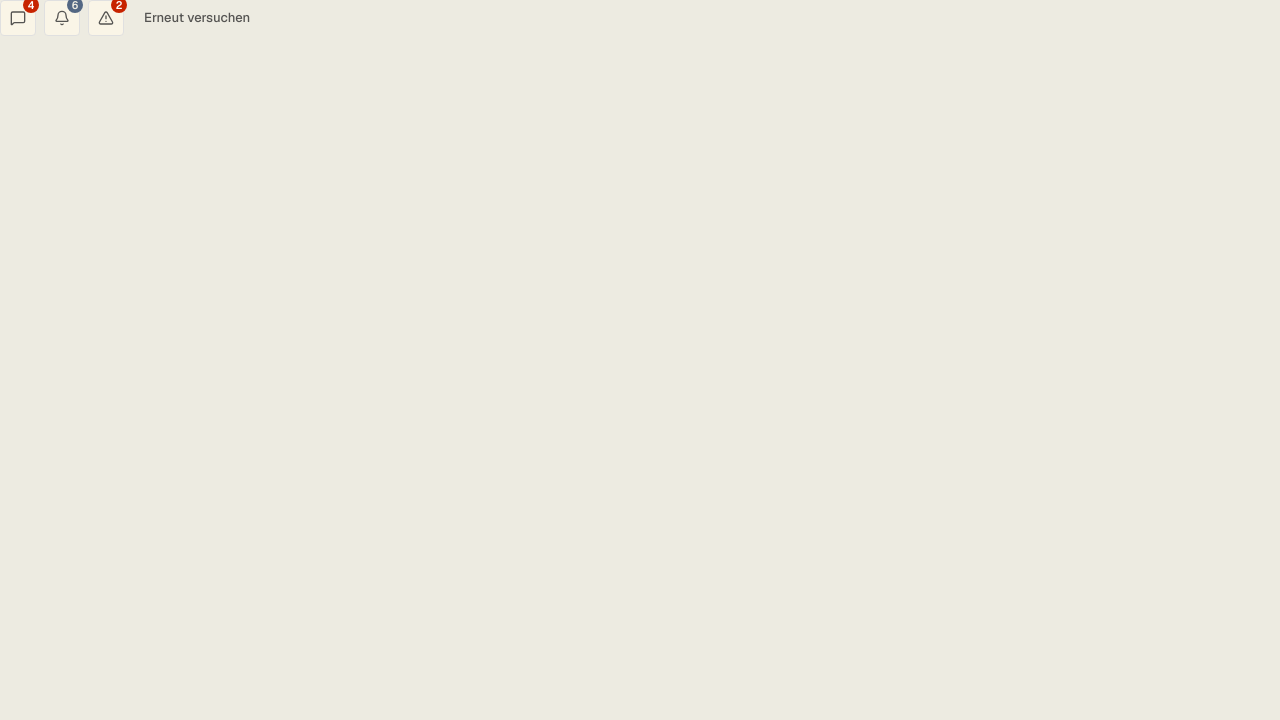
TopbarAccountSection › separates message, notification, and attention controls
Click the button "2".
click(106, 18)  # box [88,0,124,36]
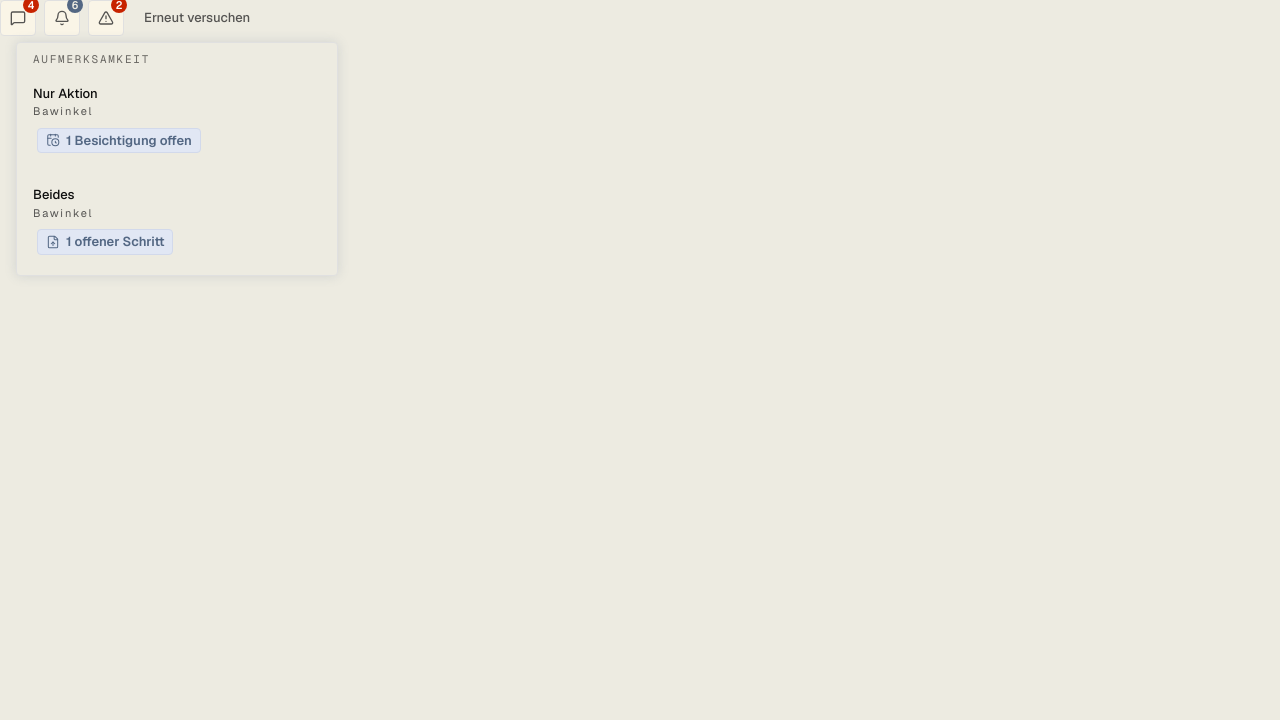
Check: the dialog "Aufmerksamkeit" shows "Nur Aktion", box [33,84,98,102]
Check: the dialog "Aufmerksamkeit" shows "Beides", box [33,186,75,203]
Check: the dialog "Aufmerksamkeit" shows "1 Besichtigung offen", box [33,124,321,157]
Click the button "4".
click(18, 18)  # box [0,0,36,36]
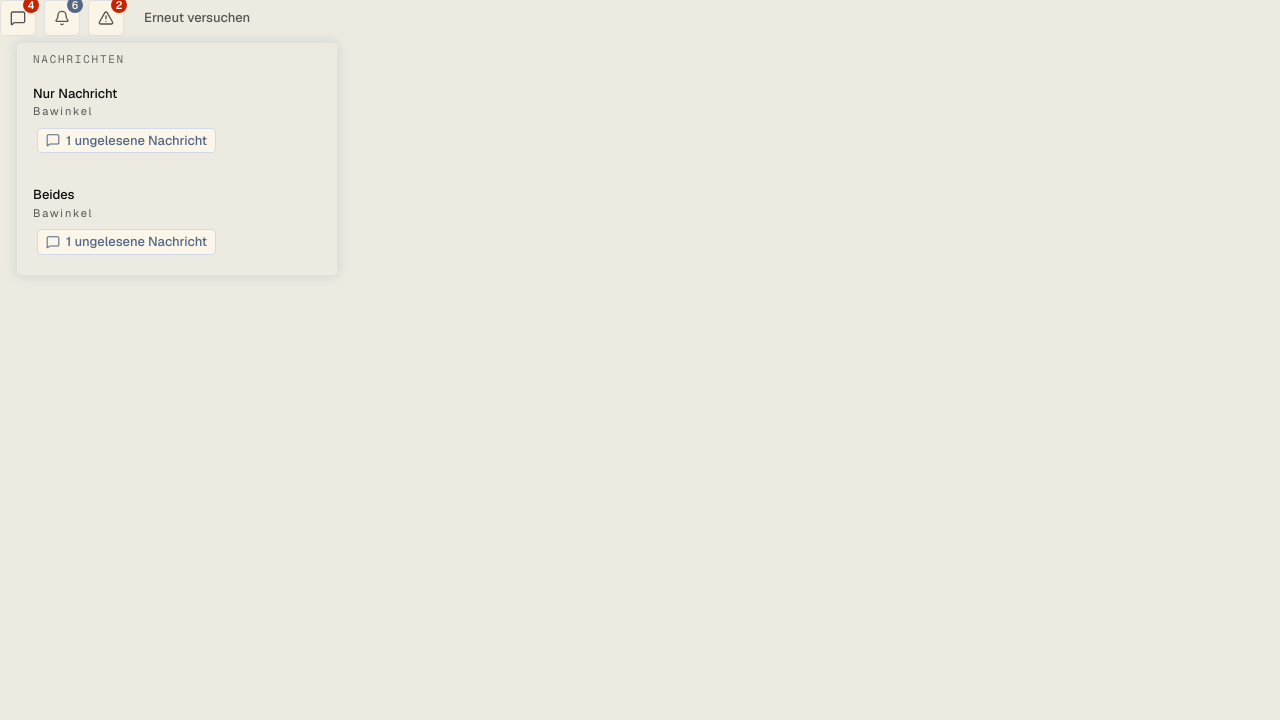
Check: the dialog "Nachrichten" shows "Beides", box [33,186,75,203]
Check: the dialog "Nachrichten" shows "Nur Nachricht", box [33,84,118,102]
Check: the text "Nachrichten" no longer shows "Nur Aktion"
